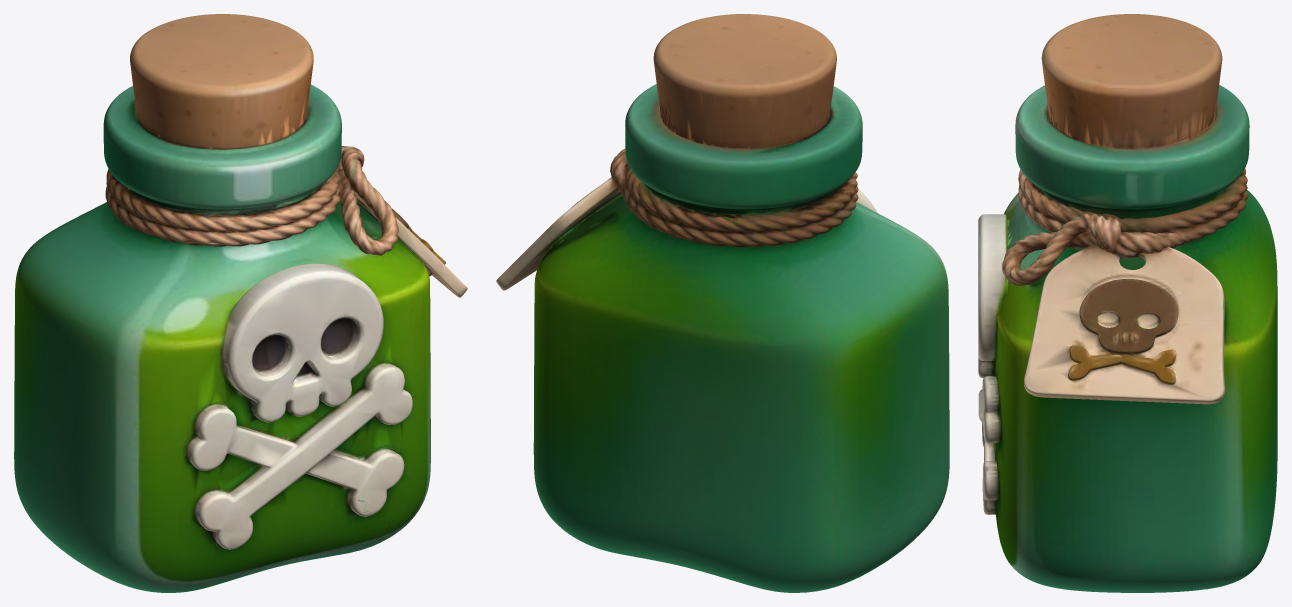
Rendered from poison-bottle.glb.
The picture shows the model from 3 angles, left to right: view 1: azimuth 30°, elevation 25°; view 2: azimuth 150°, elevation 25°; view 3: azimuth 270°, elevation 25°; orthographic projection.
Visible parts, largest first — view 1: material; view 2: material; view 3: material.
Part boxes in pixels (left/top/right/bottom): material: left=14, top=14, right=467, bottom=592; material: left=496, top=14, right=949, bottom=592; material: left=978, top=14, right=1277, bottom=592.
Bounding box in the file's own units: 0.8124 × 1 × 0.5624.
1 material, 1 textured.
